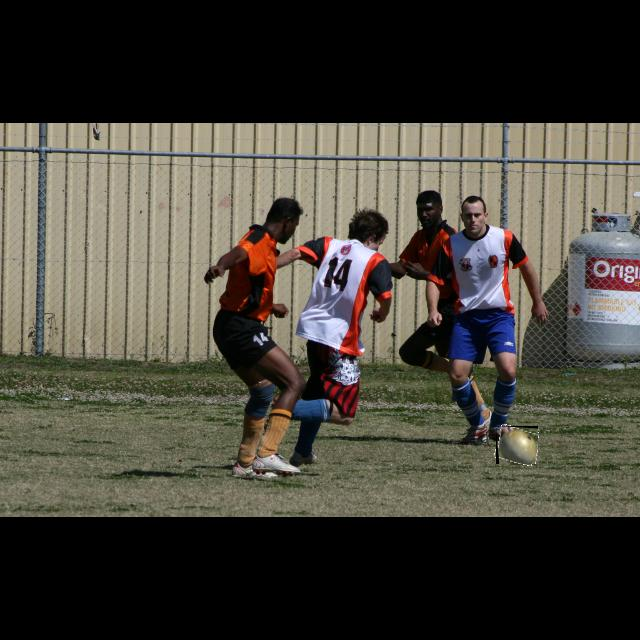Football: (496, 426, 538, 464)
